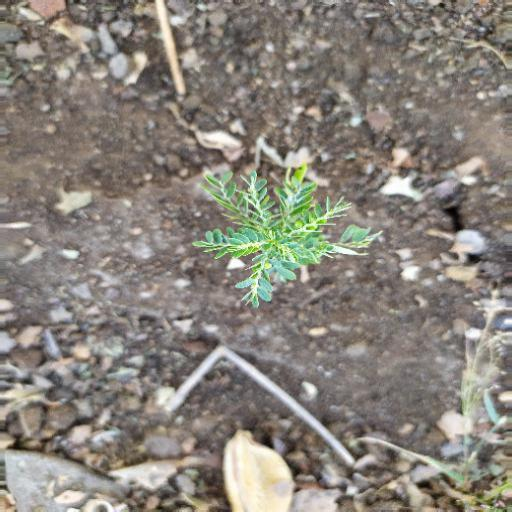weed: (193, 151, 381, 305)
